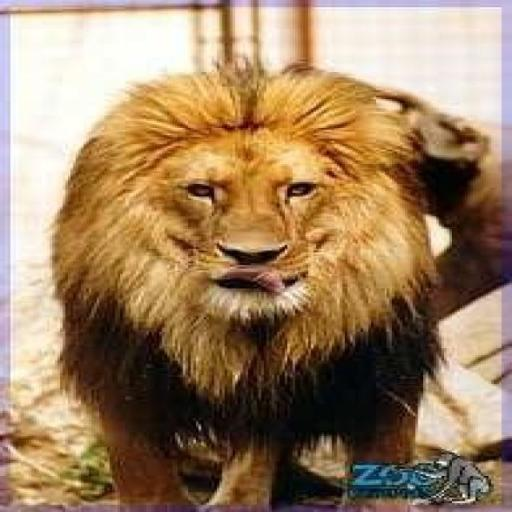Lion: (47, 54, 504, 508)
